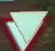Give way: (4, 6, 53, 50)
